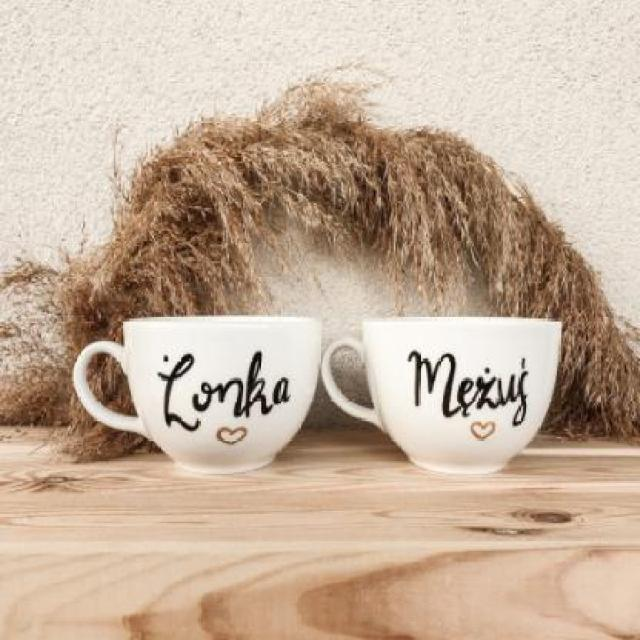cup: (322, 305, 570, 482), (66, 309, 323, 477)
